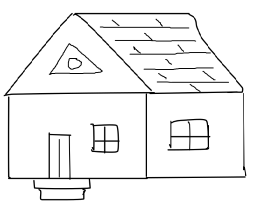big_house: (0, 0, 258, 206)
closed_window: (165, 113, 216, 155), (86, 115, 125, 158)
door: (39, 122, 78, 183)
roof: (3, 8, 250, 102)
wall: (136, 83, 251, 185)
